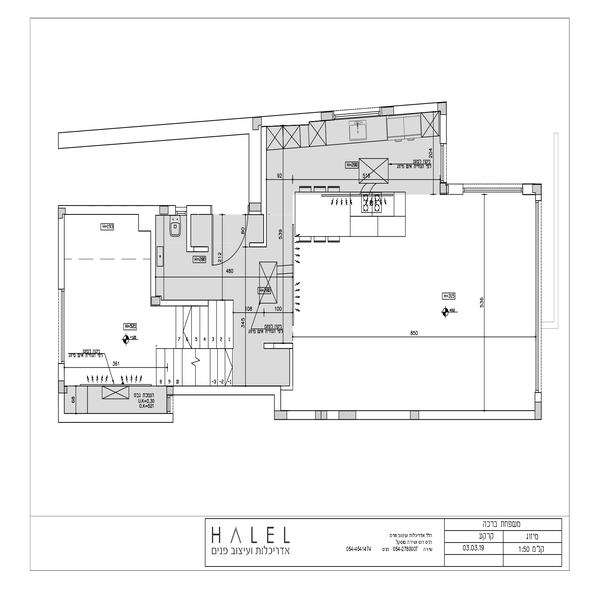door: (209, 205, 252, 264)
room: (284, 164, 546, 418), (51, 190, 176, 424)
wall: (277, 403, 544, 428), (64, 200, 161, 226), (55, 407, 174, 428), (169, 381, 284, 398), (54, 202, 70, 290)
window: (529, 198, 553, 394), (49, 284, 80, 363), (465, 178, 521, 198), (437, 142, 452, 187)
